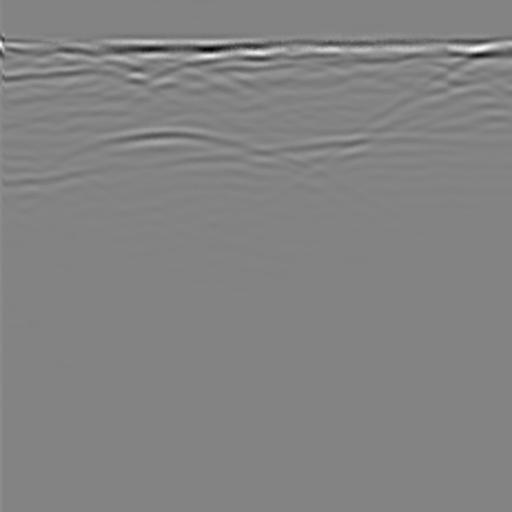hyperbola: (30, 114, 302, 253)
